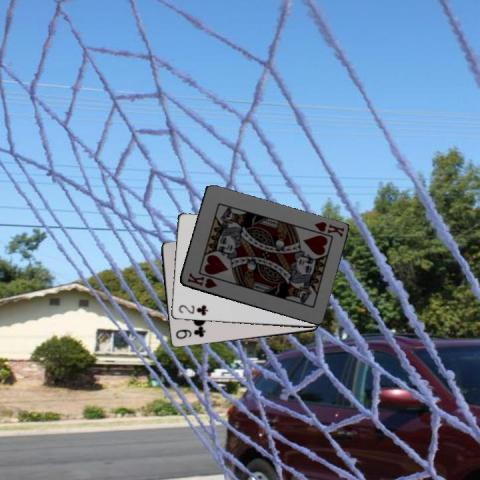2c: (176, 302, 210, 317)
9c: (172, 326, 206, 341)
Kh: (184, 269, 218, 290), (312, 218, 346, 238)
